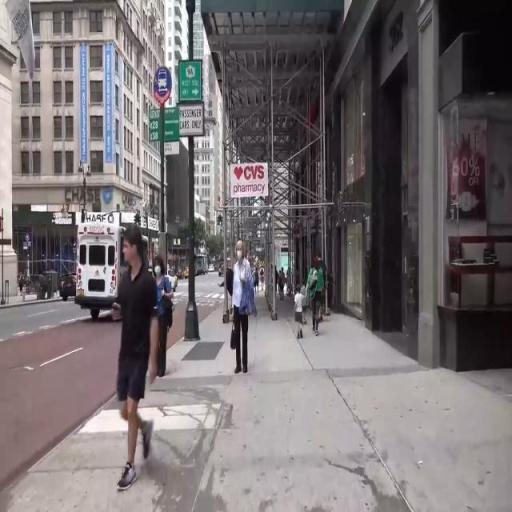person: (111, 226, 156, 497), (233, 240, 256, 381), (153, 251, 175, 388), (307, 264, 326, 340), (221, 261, 233, 297), (317, 251, 328, 290), (297, 282, 304, 337), (302, 280, 308, 327), (279, 267, 286, 302), (20, 272, 27, 297)
